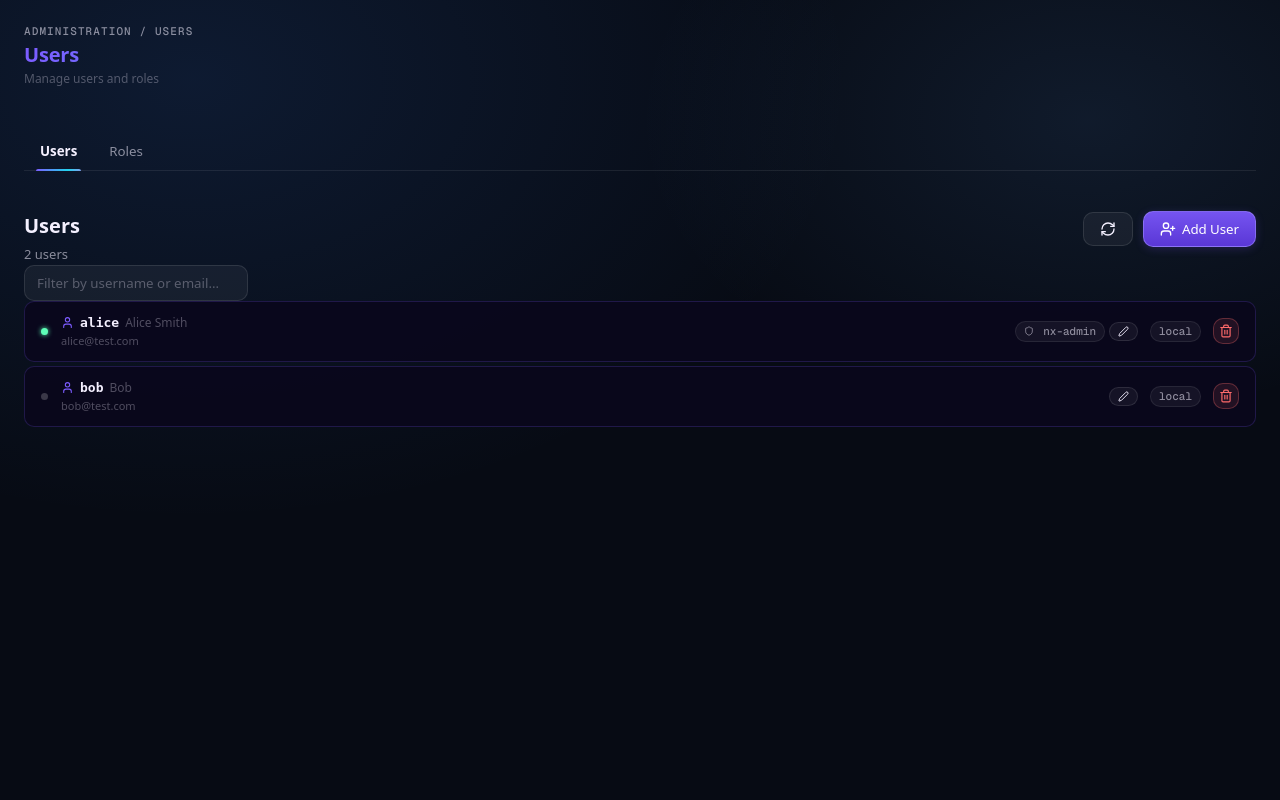
Test: UsersPage › shows an error when create user fails
Expected: the text "alice" is shown, 80,313 -> 119,332
Click the button "Add User": (1200, 229) 1143,211 -> 1256,247
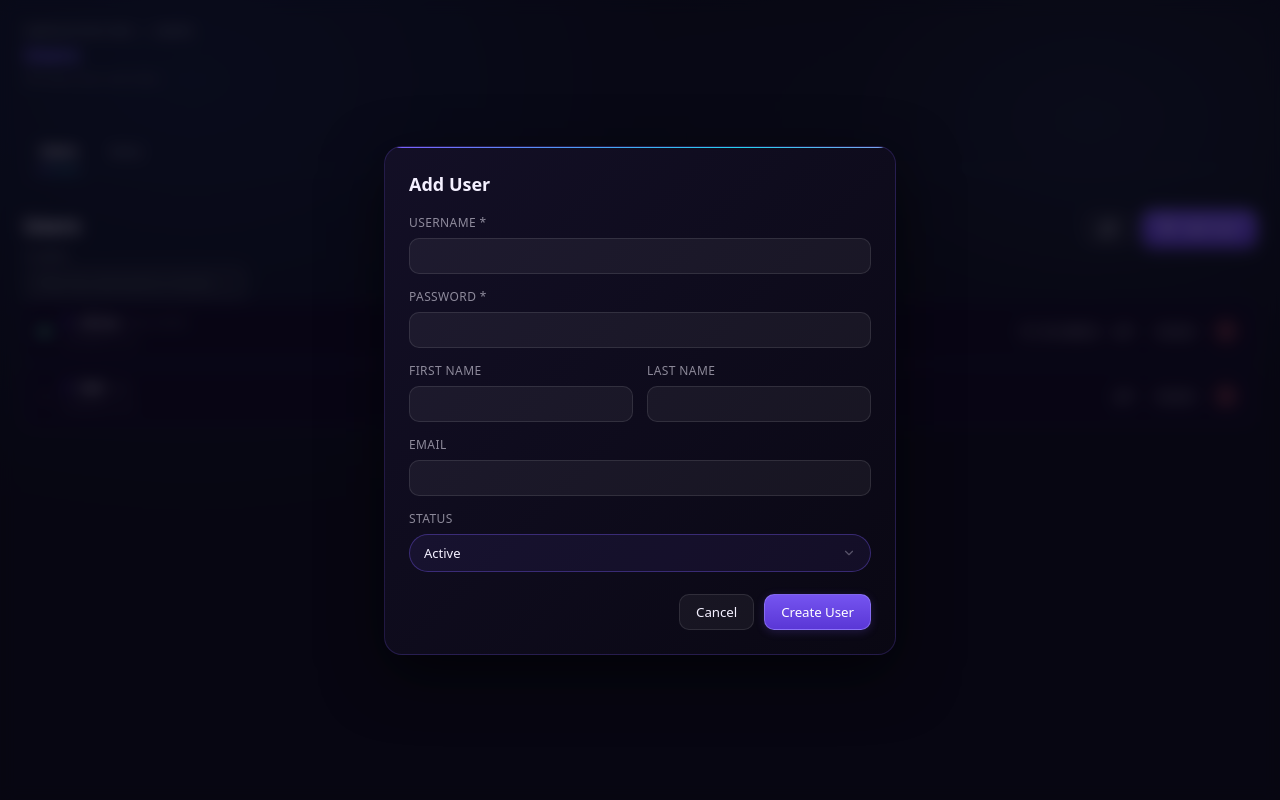
In the field below "Username *": (640, 256) 409,238 -> 871,274, type "charlie"
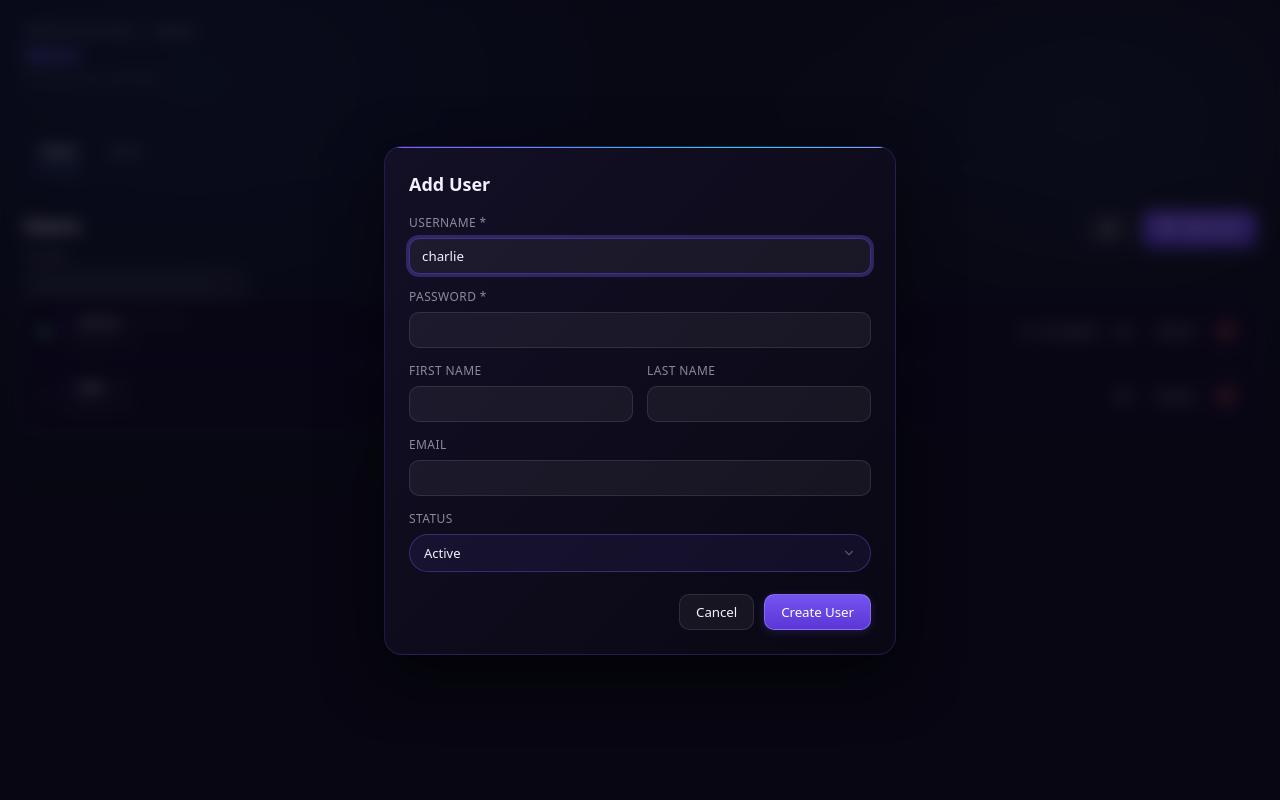
In the password field: (640, 330) 409,312 -> 871,348, type "s3cret"
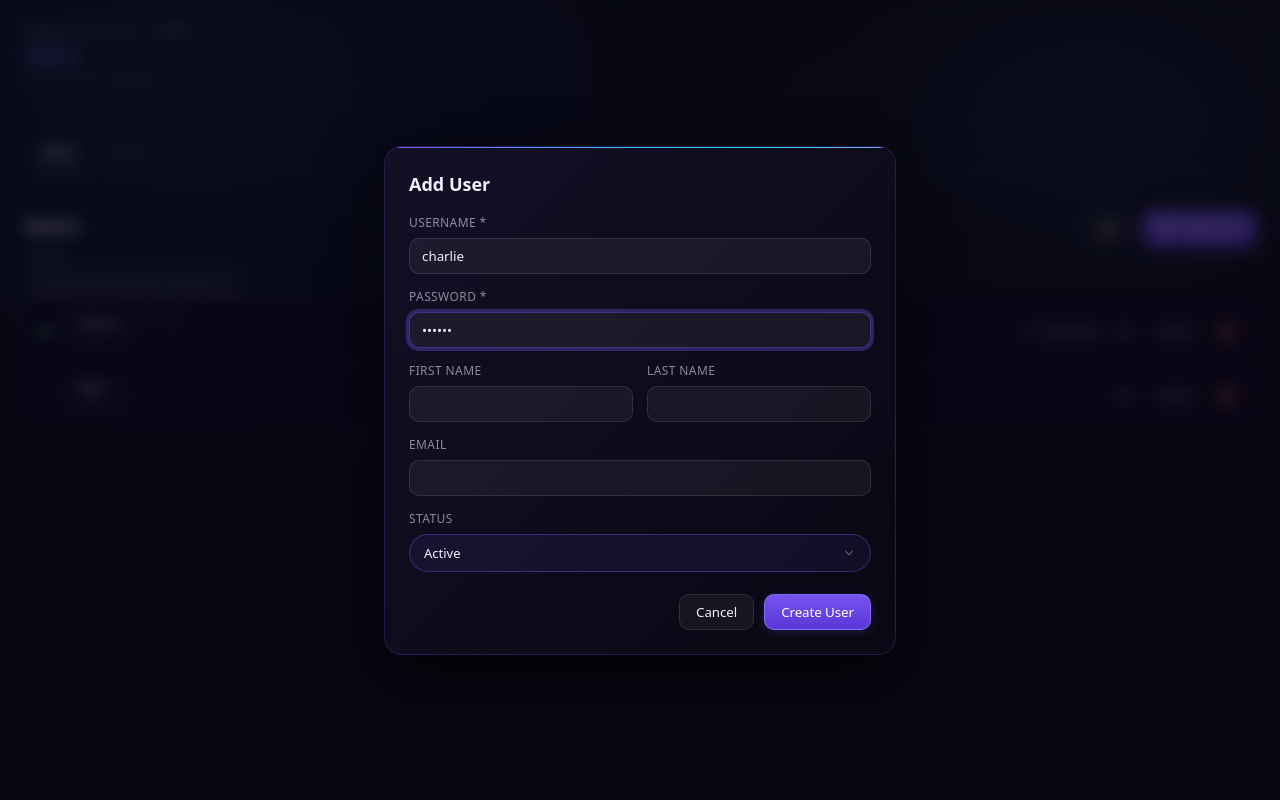
Click the submit button: (818, 612) 764,594 -> 871,630
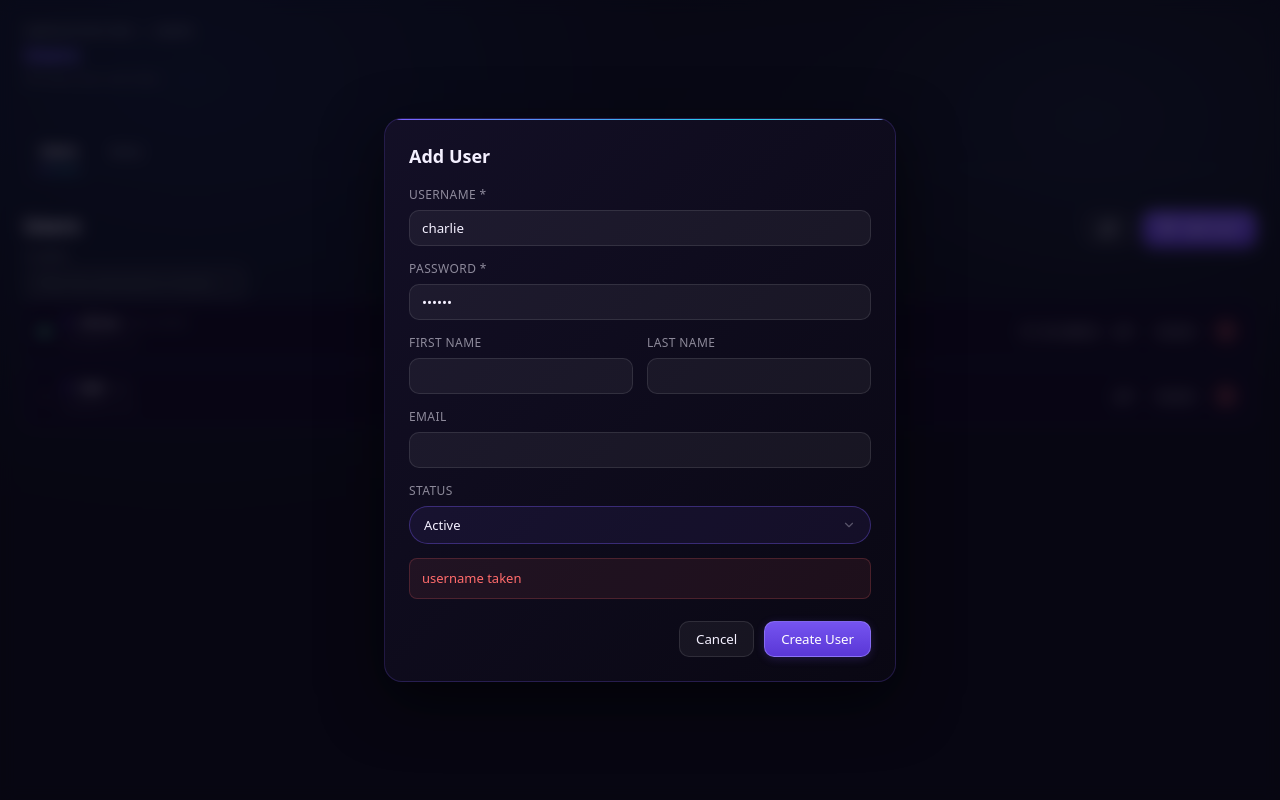
Now the text "username taken" is shown, box 409,558 -> 871,599
